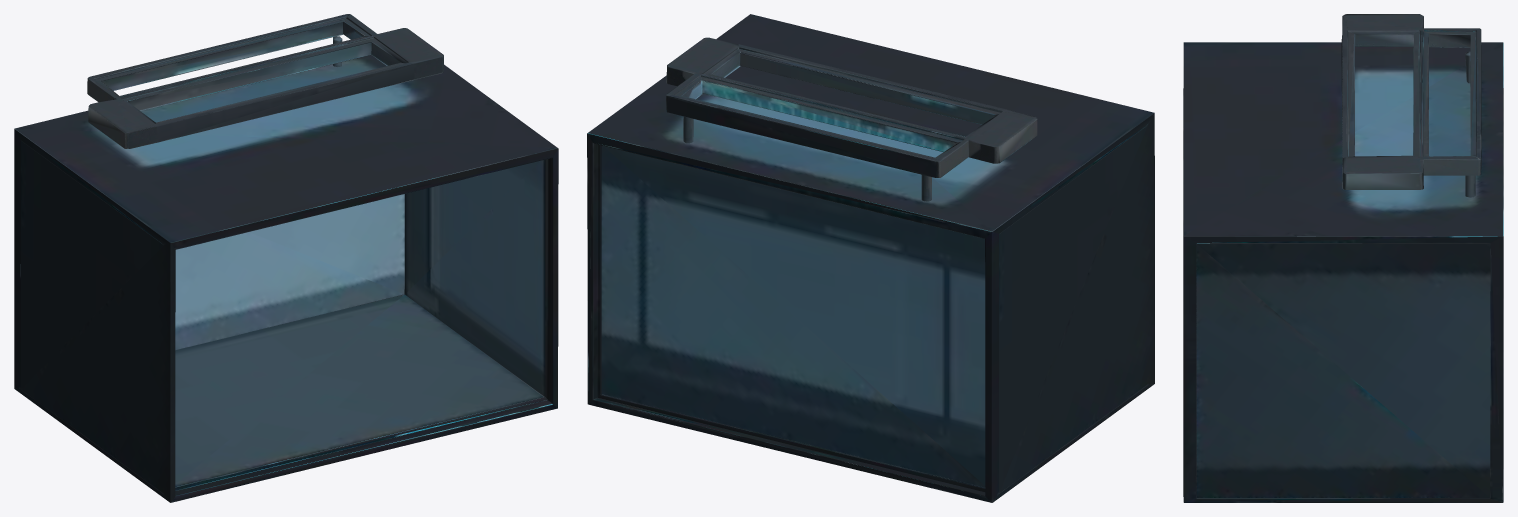
Rendered from TankFrame.glb.
The picture shows the model from 3 angles, left to right: view 1: azimuth 30°, elevation 25°; view 2: azimuth 150°, elevation 25°; view 3: azimuth 270°, elevation 25°; orthographic projection. The views are drawn at different scales.
Size of the model in its own units: 0.9429 by 0.7061 by 0.6567.
1 material, 1 textured.
